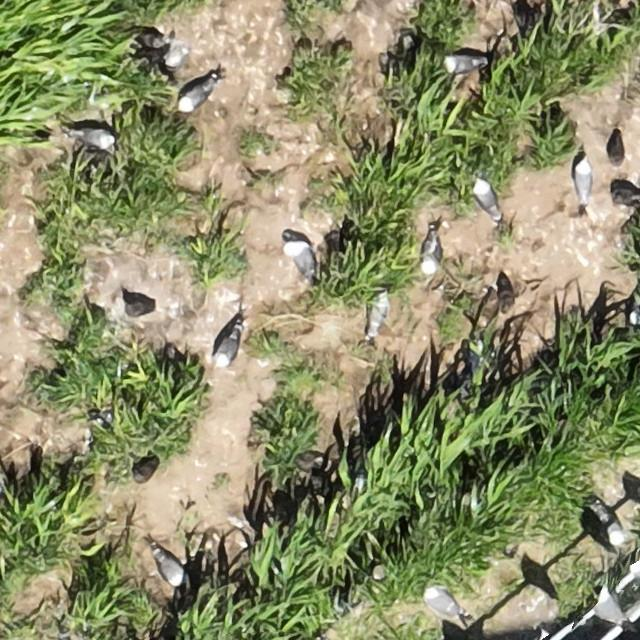umineko: (423, 586, 469, 627), (594, 587, 633, 628), (368, 291, 390, 341), (600, 514, 630, 548), (180, 81, 212, 110), (288, 242, 314, 277), (156, 551, 182, 585), (475, 180, 498, 218), (217, 330, 240, 364), (75, 126, 113, 146), (160, 43, 187, 70), (575, 161, 592, 202), (444, 54, 480, 72), (424, 237, 440, 273)
